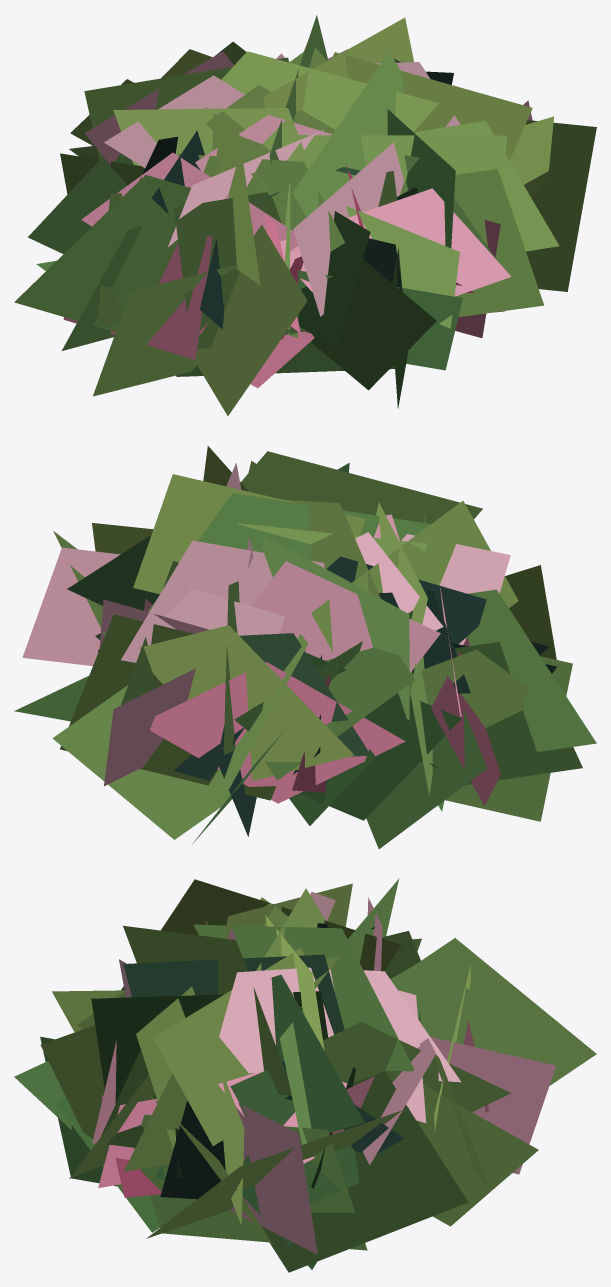
Rendered from ShrubFlowering.fbx.
3 views of the same model, one above another, from view 1: azimuth 30°, elevation 25°; view 2: azimuth 150°, elevation 25°; view 3: azimuth 270°, elevation 25° (orthographic). The views are drawn at different scales.
Visible parts, largest first — view 1: ShrubFlowering; view 2: ShrubFlowering; view 3: ShrubFlowering.
Boxes of the visible parts, x1,y1,x2,y2 form: ShrubFlowering: (14,15,596,415); ShrubFlowering: (14,446,596,848); ShrubFlowering: (14,878,596,1272).
Bounding box in the file's own units: 2.08 × 1.13 × 1.9.
